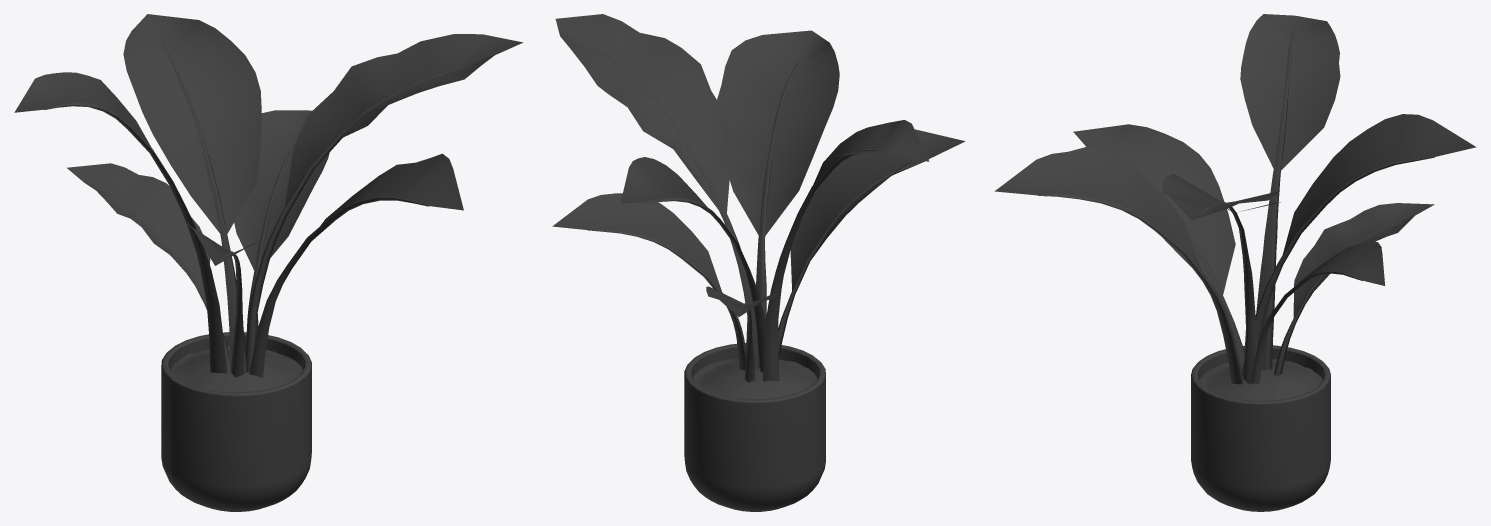
File: ULMOU0910005.glb
3 views of the same model, side by side, from view 1: azimuth 30°, elevation 25°; view 2: azimuth 150°, elevation 25°; view 3: azimuth 270°, elevation 25° (orthographic). The views are drawn at different scales.
Parts seen in each view (by area): view 1: Body__0, Front__1; view 2: Body__0, Front__1; view 3: Body__0, Front__1.
Part boxes in pixels (left/top/right/bottom): Body__0: left=14, top=14, right=523, bottom=392; Front__1: left=161, top=332, right=311, bottom=511; Body__0: left=552, top=14, right=965, bottom=399; Front__1: left=684, top=343, right=825, bottom=511; Body__0: left=994, top=14, right=1476, bottom=400; Front__1: left=1191, top=345, right=1330, bottom=511.
Bounding box in the file's own units: 0.816 × 0.75 × 0.81.
1 material, 1 textured.
